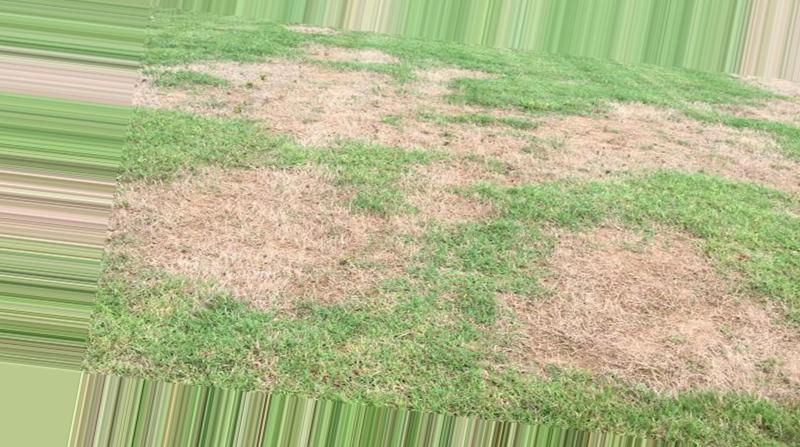patch: (191, 159, 371, 297), (546, 210, 698, 366), (496, 99, 722, 173), (226, 66, 388, 143), (705, 295, 798, 385), (400, 161, 462, 219), (490, 316, 532, 358)
